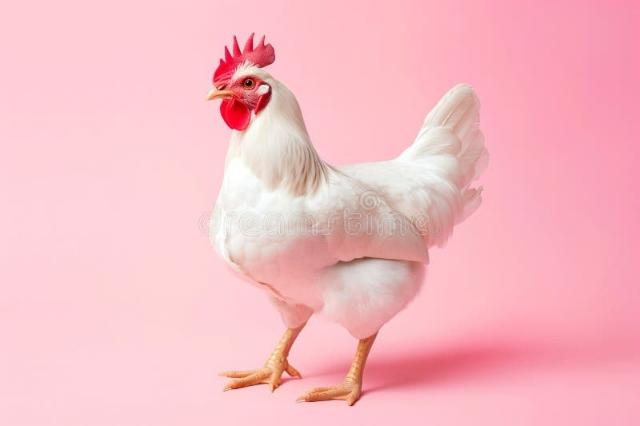Chicken: (207, 32, 491, 406)
